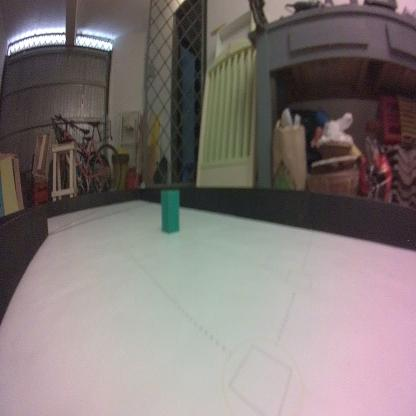green: (160, 186, 180, 234)
